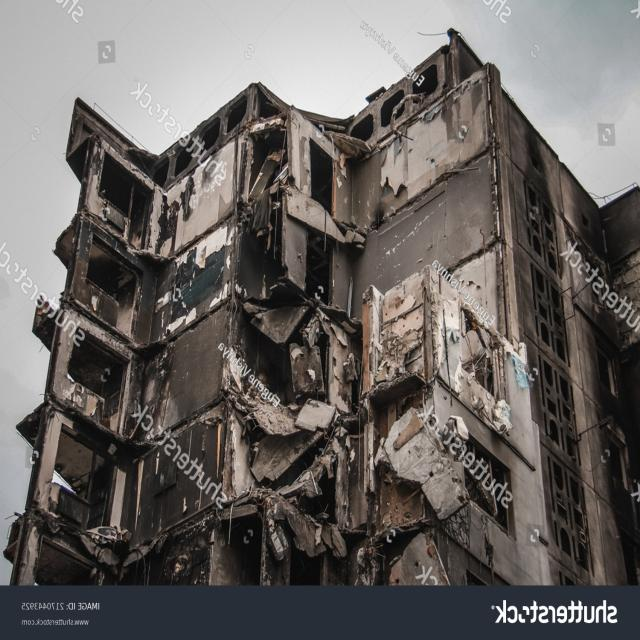Destroyed_building: (0, 0, 639, 587)
